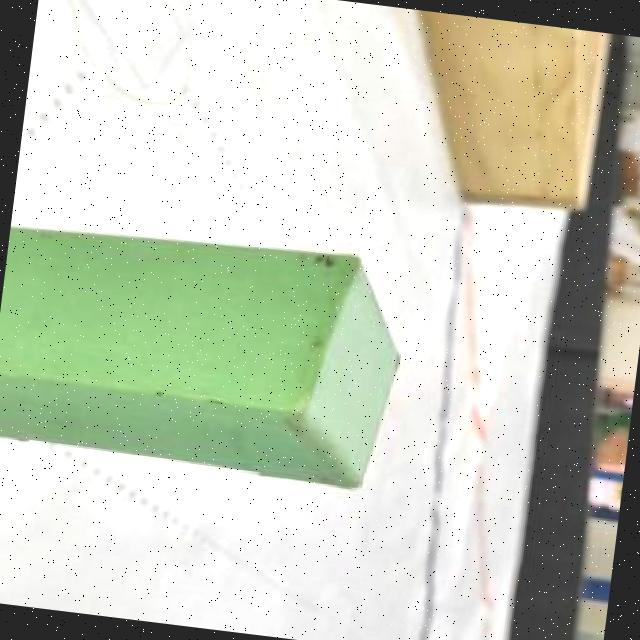greenbox: (0, 208, 415, 495)
